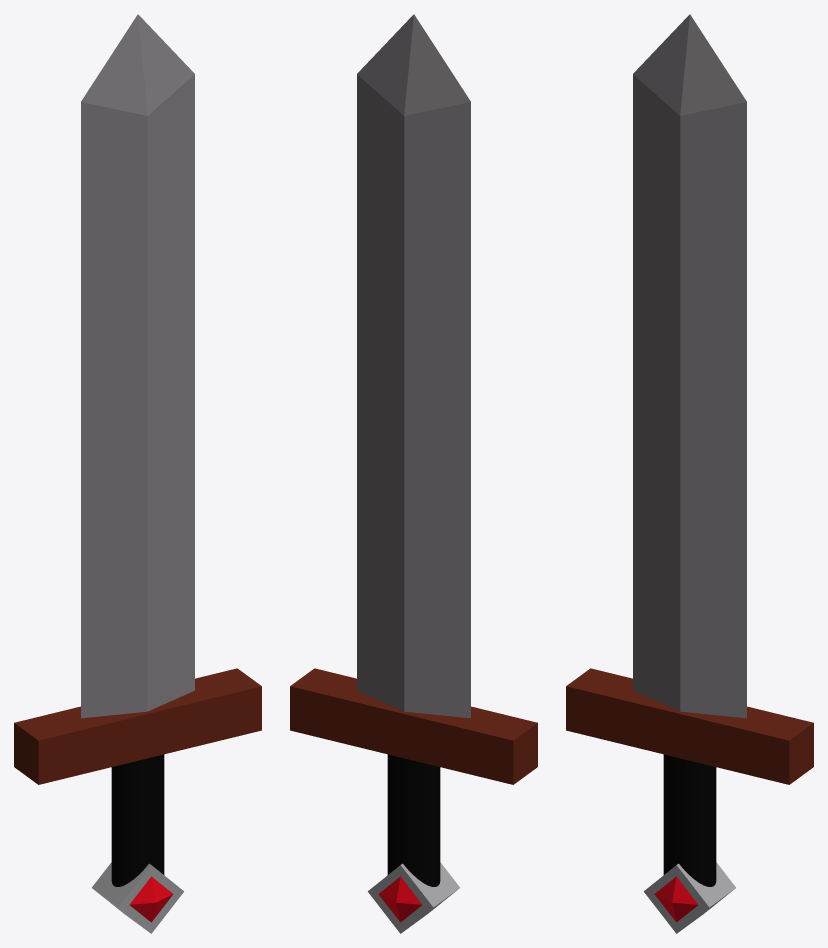
The model's file is SampleSword.fbx.
3 views of the same model, side by side, from view 1: azimuth 30°, elevation 25°; view 2: azimuth 150°, elevation 25°; view 3: azimuth 330°, elevation 25° (orthographic).
Parts seen in each view (by area): view 1: Cube.001, Cube, Cylinder; view 2: Cube.001, Cube, Cylinder; view 3: Cube.001, Cube, Cylinder.
Part boxes in pixels (x1=…): Cube.001: x1=81, y1=14, x2=194, y2=718; Cube: x1=14, y1=668, x2=261, y2=784; Cylinder: x1=92, y1=754, x2=183, y2=933; Cube.001: x1=357, y1=14, x2=470, y2=718; Cube: x1=290, y1=668, x2=537, y2=784; Cylinder: x1=368, y1=754, x2=459, y2=933; Cube.001: x1=633, y1=14, x2=746, y2=718; Cube: x1=566, y1=668, x2=813, y2=784; Cylinder: x1=644, y1=754, x2=735, y2=933.
Bounding box in the file's own units: 81.34 × 317 × 22.43.
